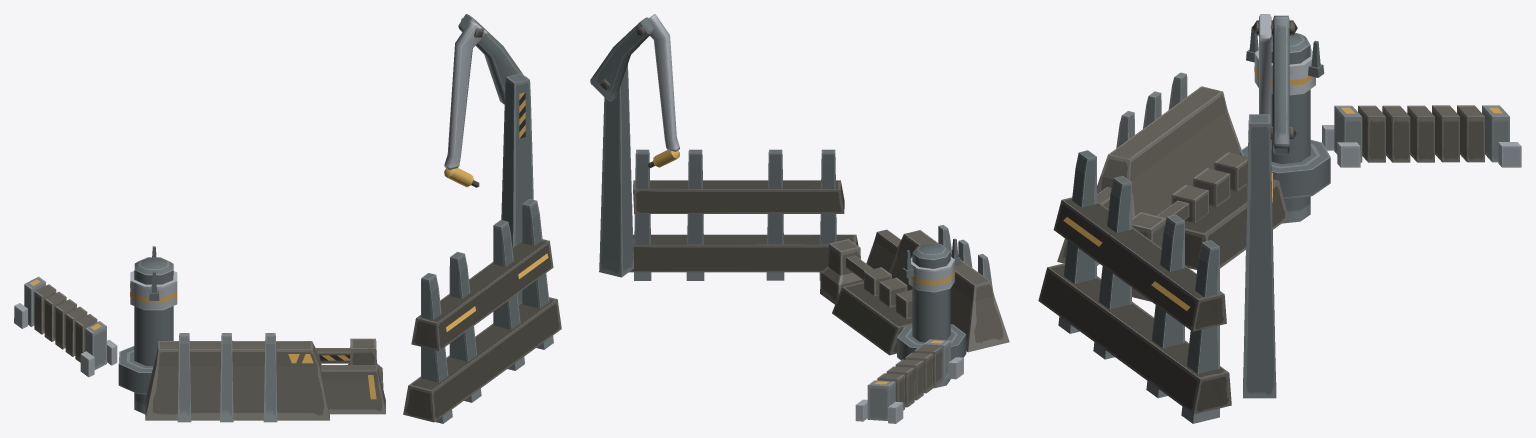
The model's file is work.FBX.
3 views of the same model, side by side, from view 1: azimuth 30°, elevation 25°; view 2: azimuth 150°, elevation 25°; view 3: azimuth 270°, elevation 25° (orthographic). The views are drawn at different scales.
Visible parts, largest first — view 1: Object2038, Object2044, Object2046, Object2041, Object2047; view 2: Object2038, Object2044, Object2046, Object2041, Object2047, Object2039, Object2040; view 3: Object2038, Object2047, Object2046, Object2041, Object2044, Object2039, Object2040.
Boxes of the visible parts, x1,y1,x2,y2 form: Object2038: (14, 73, 561, 423); Object2044: (444, 18, 487, 169); Object2046: (458, 14, 523, 104); Object2041: (130, 246, 177, 310); Object2047: (44, 291, 87, 356); Object2038: (599, 64, 1009, 423); Object2044: (636, 14, 679, 151); Object2046: (590, 17, 654, 101); Object2041: (902, 238, 960, 292); Object2047: (886, 352, 932, 407); Object2039: (879, 277, 907, 307); Object2040: (895, 290, 912, 319); Object2038: (1038, 32, 1521, 423); Object2047: (1382, 105, 1459, 162); Object2046: (1270, 15, 1296, 154); Object2041: (1246, 26, 1324, 95); Object2044: (1252, 14, 1297, 164); Object2039: (1193, 168, 1230, 207); Object2040: (1214, 152, 1247, 191).
Size of the model in its own units: 163 by 133 by 117.
